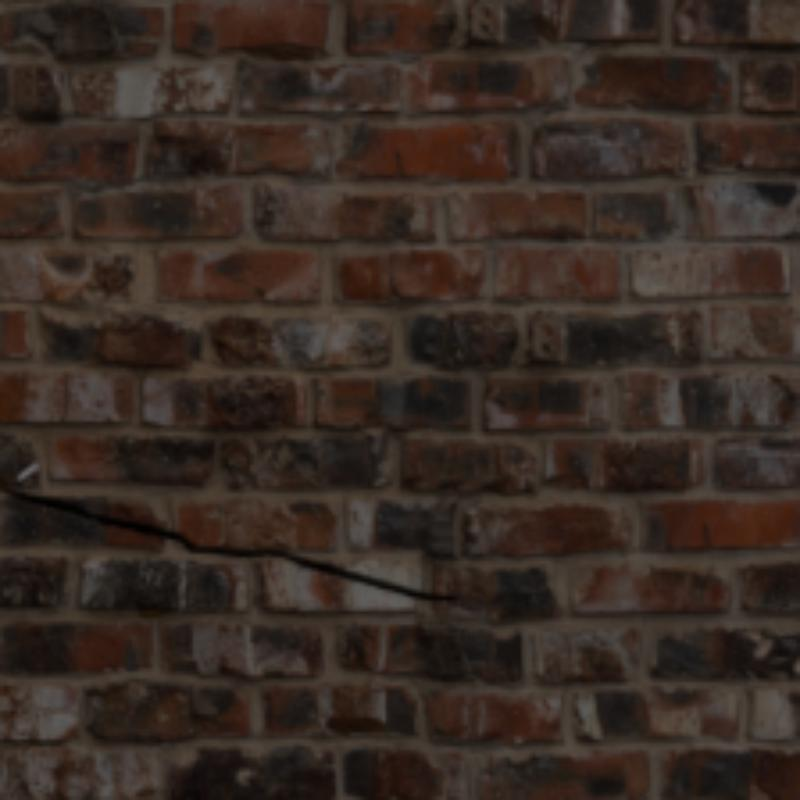pothole: (0, 486, 454, 596), (61, 375, 71, 421), (389, 254, 396, 293)
